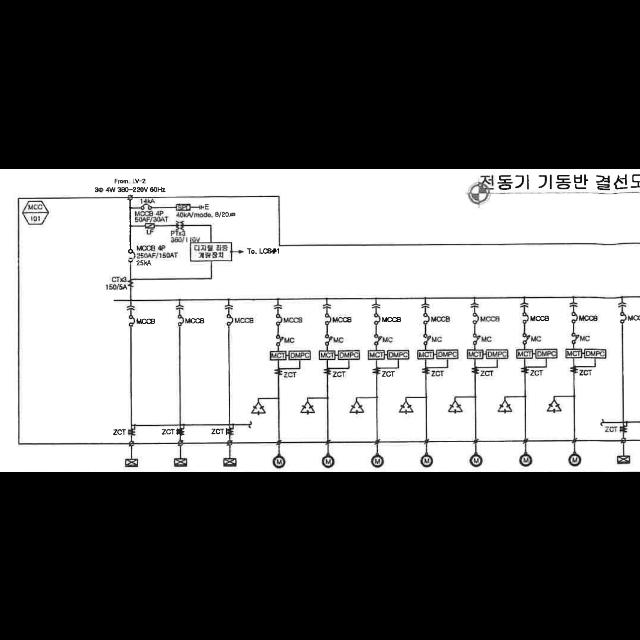CT: (128, 278, 134, 286)
GND: (200, 203, 204, 209)
MC: (276, 334, 284, 346), (522, 332, 530, 343), (572, 332, 580, 343), (374, 334, 382, 344), (326, 333, 332, 345), (424, 334, 431, 344), (474, 334, 481, 344)
MCCB: (128, 248, 136, 262), (129, 314, 135, 326), (178, 314, 184, 326), (325, 312, 331, 324), (424, 312, 430, 324), (473, 312, 479, 324), (572, 311, 578, 323), (141, 203, 151, 209), (227, 314, 233, 324), (276, 314, 282, 324), (374, 314, 380, 324), (523, 312, 529, 322), (621, 312, 627, 322)
PF2: (146, 222, 154, 228)
PT: (176, 220, 184, 230)
SC: (350, 401, 364, 415), (400, 400, 414, 414), (498, 400, 512, 414), (448, 401, 462, 414), (252, 402, 266, 414), (301, 402, 315, 414), (547, 401, 561, 413)
ZCT: (128, 428, 136, 436), (226, 427, 234, 435), (372, 366, 380, 374), (422, 366, 430, 374), (471, 366, 479, 374), (521, 365, 529, 373), (570, 365, 578, 373), (274, 368, 282, 374), (177, 428, 185, 434), (323, 368, 331, 374), (620, 426, 628, 432)
